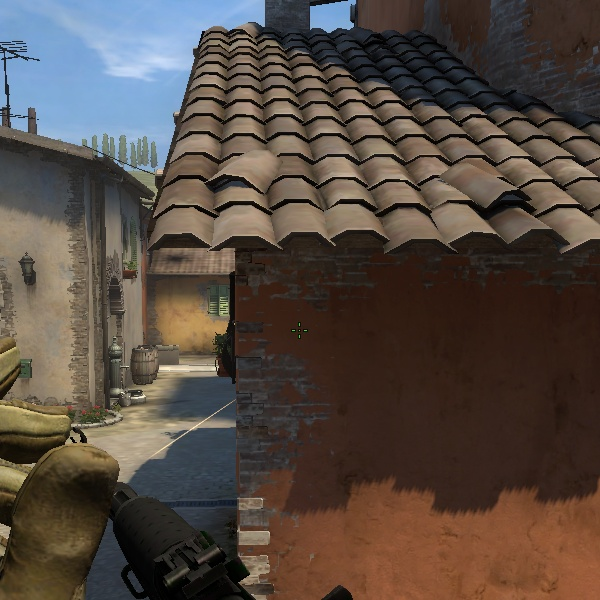t_body: (0, 0, 600, 597)
